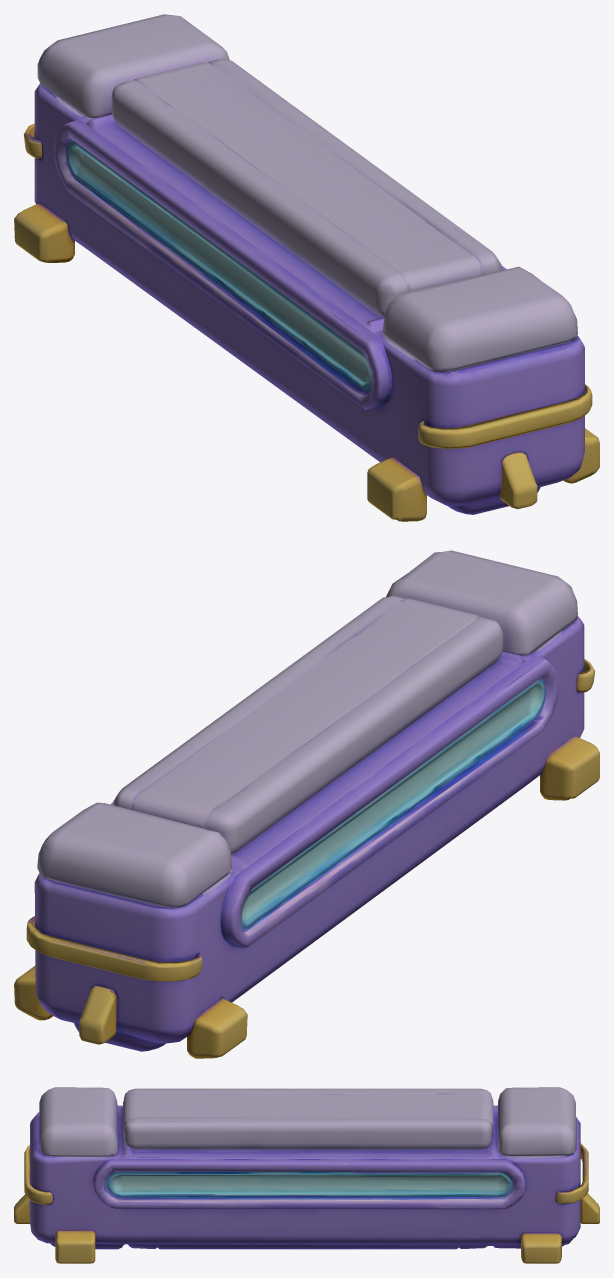
3 views of the same model, one above another, from view 1: azimuth 30°, elevation 25°; view 2: azimuth 150°, elevation 25°; view 3: azimuth 270°, elevation 25° (orthographic). The views are drawn at different scales.
Parts seen in each view (by area): view 1: tripo_node_183faad7; view 2: tripo_node_183faad7; view 3: tripo_node_183faad7.
Part boxes in pixels (left/top/right/bottom): tripo_node_183faad7: left=14, top=14, right=599, bottom=521; tripo_node_183faad7: left=14, top=550, right=599, bottom=1058; tripo_node_183faad7: left=14, top=1087, right=599, bottom=1263.
Bounding box in the file's own units: 0.2715 × 0.252 × 0.998.
Materials: 1 (1 with a texture image).
